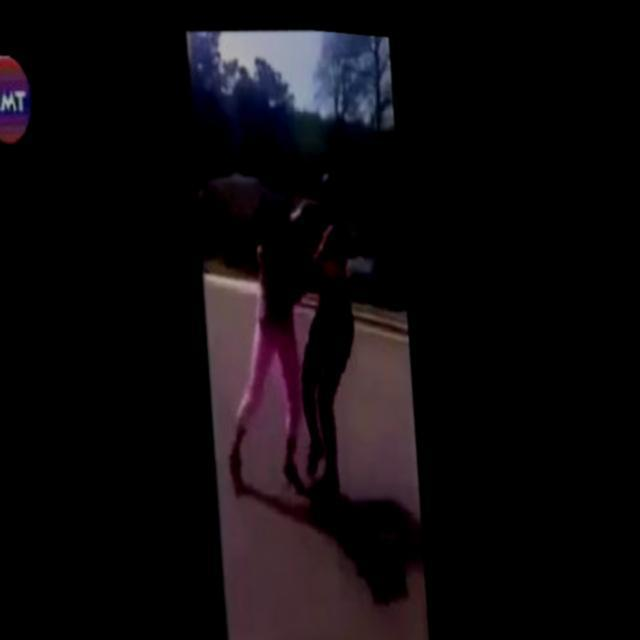fight: (192, 143, 386, 512)
